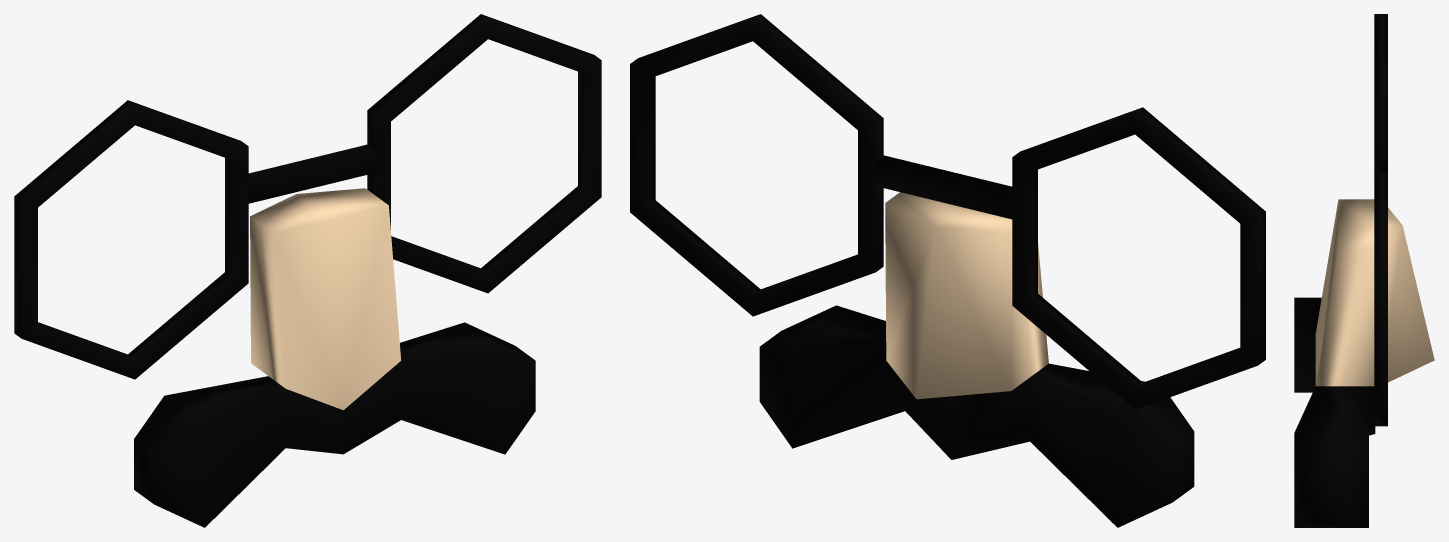
Rendered from hat6.fbx.
The picture shows the model from 3 angles, left to right: view 1: azimuth 30°, elevation 25°; view 2: azimuth 150°, elevation 25°; view 3: azimuth 270°, elevation 25°; orthographic projection. The views are drawn at different scales.
Visible parts, largest first — view 1: Cube.001; view 2: Cube.001; view 3: Cube.001.
Boxes of the visible parts, bbox=[...] form: Cube.001: bbox=[14, 14, 601, 527]; Cube.001: bbox=[630, 14, 1265, 527]; Cube.001: bbox=[1294, 14, 1434, 527].
Size of the model in its own units: 0.9615 by 0.6292 by 0.2184.
Materials: 1 (1 with a texture image).
